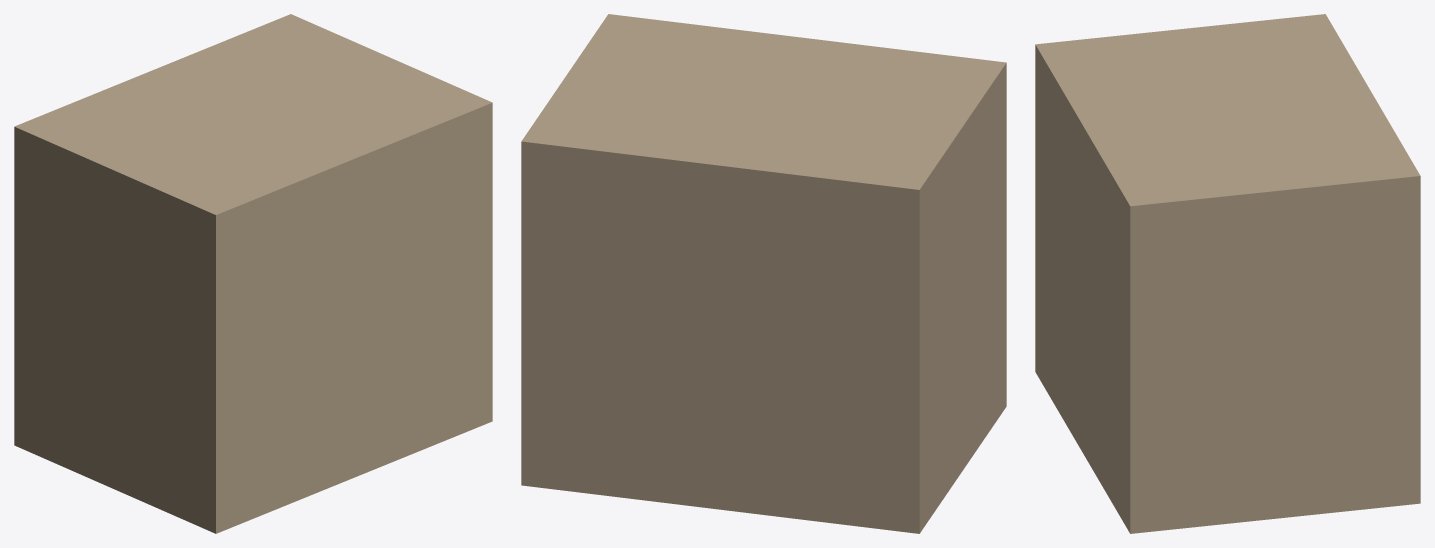
Rendered from bld_107715970.dae.
3 views of the same model, side by side, from view 1: azimuth 30°, elevation 25°; view 2: azimuth 150°, elevation 25°; view 3: azimuth 270°, elevation 25° (orthographic). The views are drawn at different scales.
Visible parts, largest first — view 1: bld_107715970; view 2: bld_107715970; view 3: bld_107715970.
Boxes of the visible parts, box(x1,y1,x2,y2) form: bld_107715970: box(14, 14, 492, 533); bld_107715970: box(521, 14, 1006, 533); bld_107715970: box(1035, 14, 1420, 533).
Size of the model in its own units: 10.07 by 8.52 by 8.
